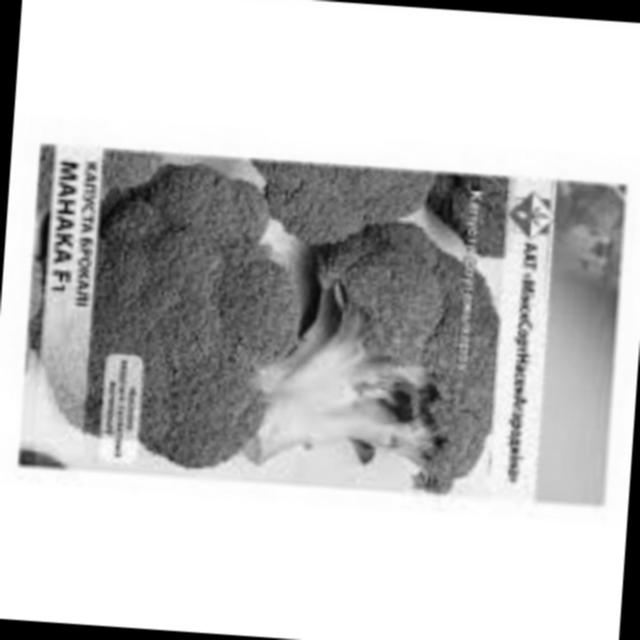broccoli: (48, 138, 318, 491), (264, 214, 518, 495), (260, 146, 542, 250)
